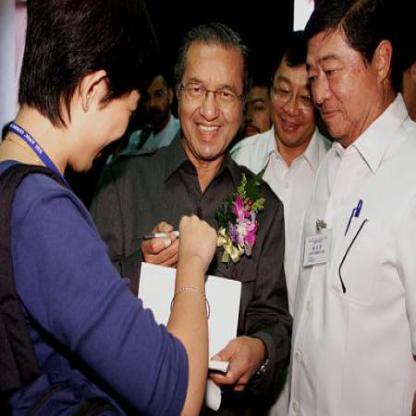face: (305, 11, 374, 143), (181, 34, 246, 159), (271, 56, 321, 146), (234, 77, 275, 148), (140, 69, 172, 129)
